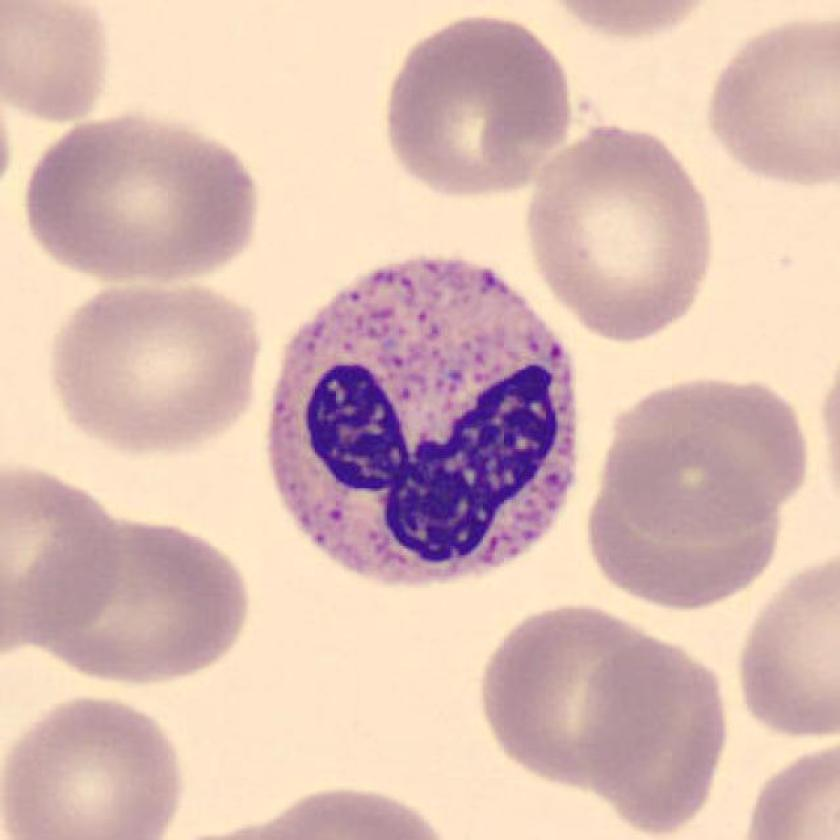neutrophil: (266, 258, 580, 584)
